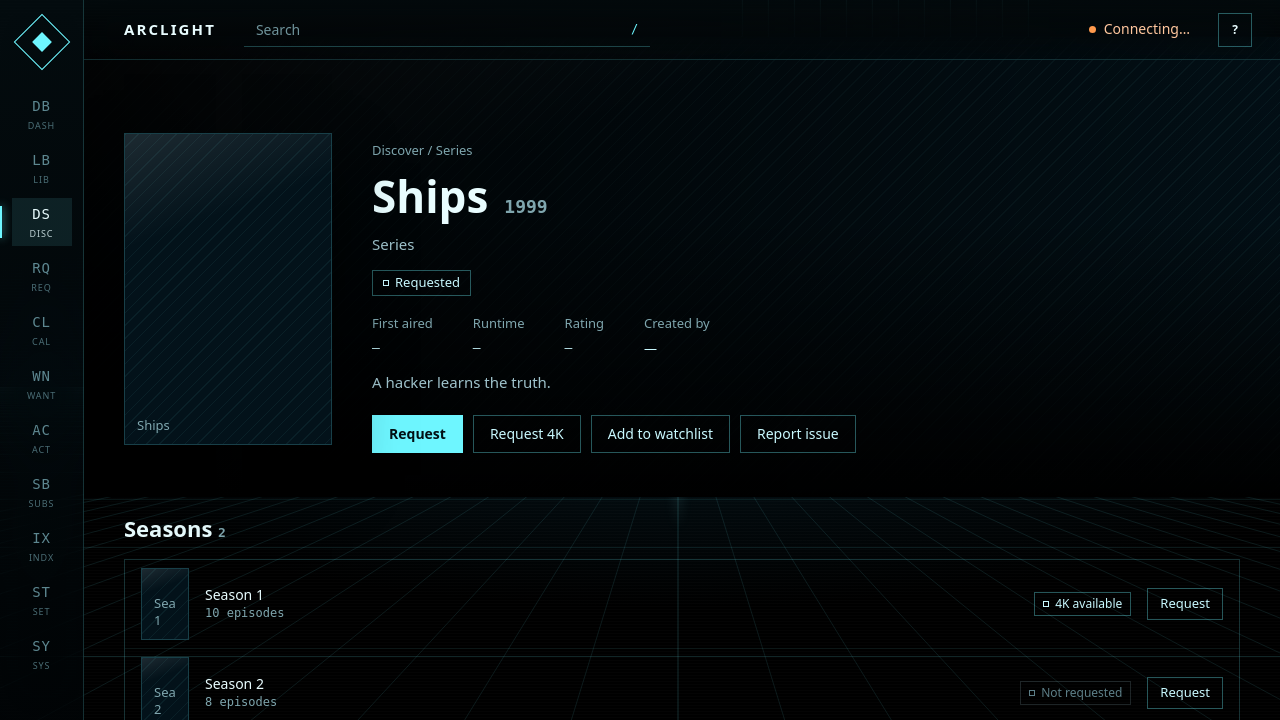
Test: discover on Arclight › title page shows the Requested chip and opens the 4K request modal with a season table
expect the text "Requested" is shown: met, box [372,270,471,296]
Step 1. Click the button "Request 4K" → (527,434), box [473,415,581,453]
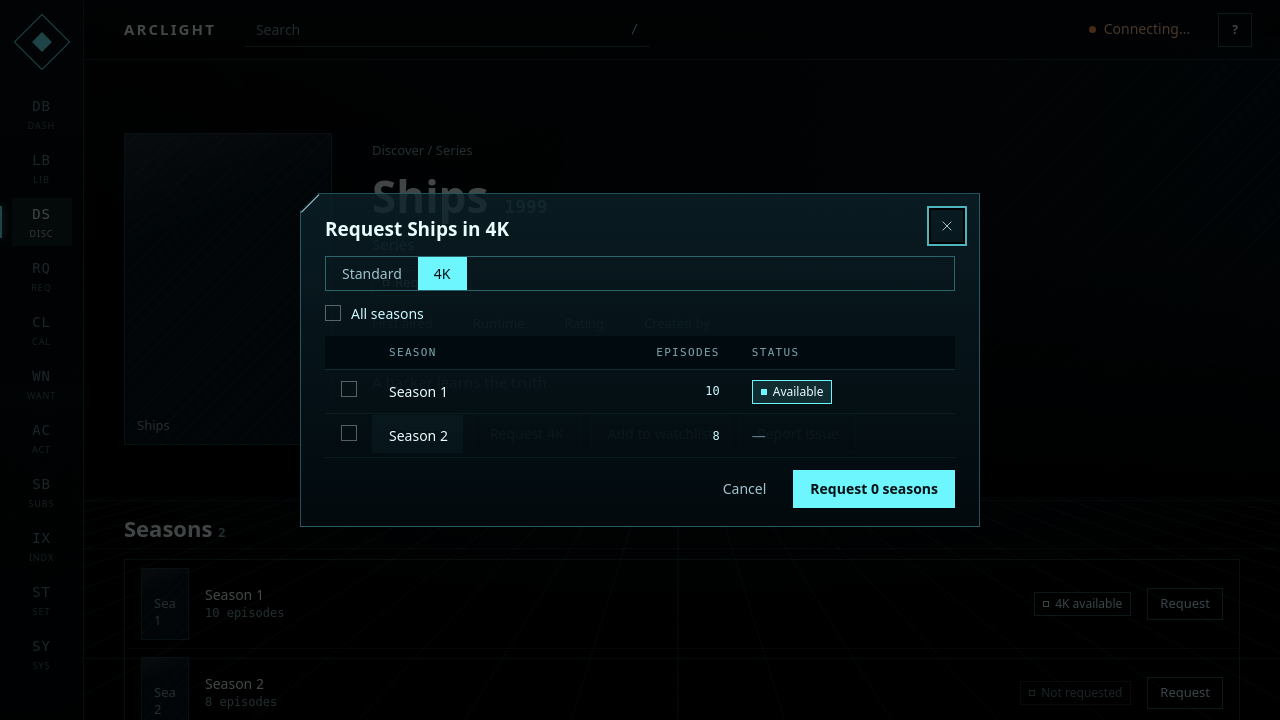
expect the checkbox named "Season 1" is disabled: met, box [341,381,357,397]
expect the text "8" is shown: met, box [550,414,736,458]
expect the text "Available" is shown: met, box [752,380,832,404]
